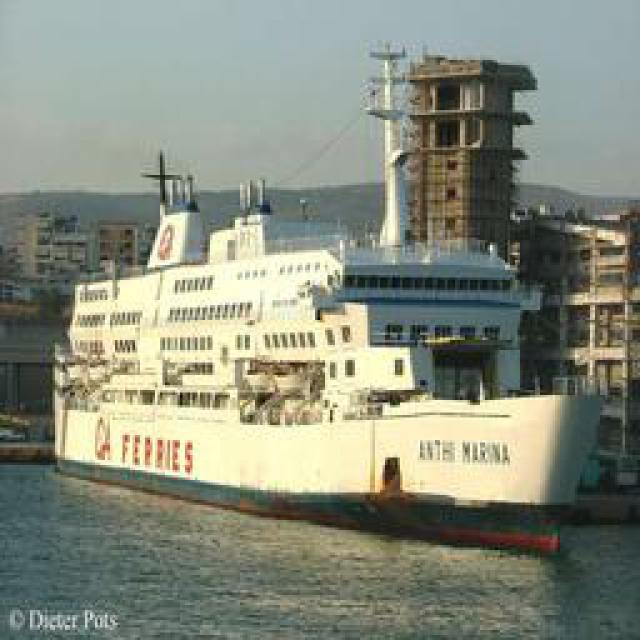Ship: (46, 141, 609, 541)
